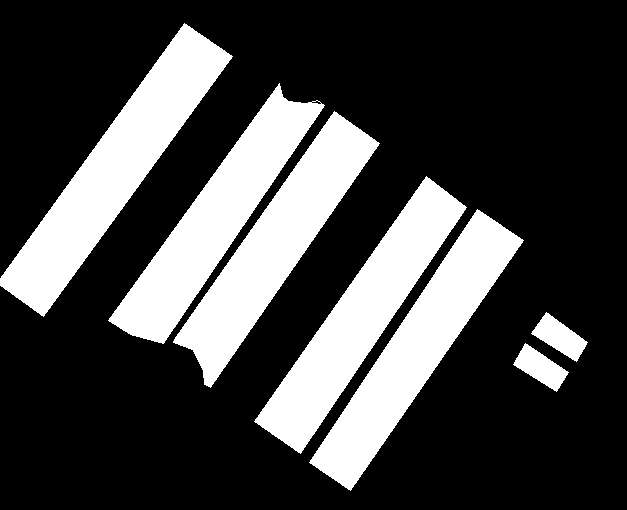parkingspot: (0, 23, 232, 316), (309, 209, 523, 490), (254, 176, 466, 453), (173, 111, 379, 387), (108, 83, 324, 343), (531, 312, 587, 361), (513, 343, 568, 391)
